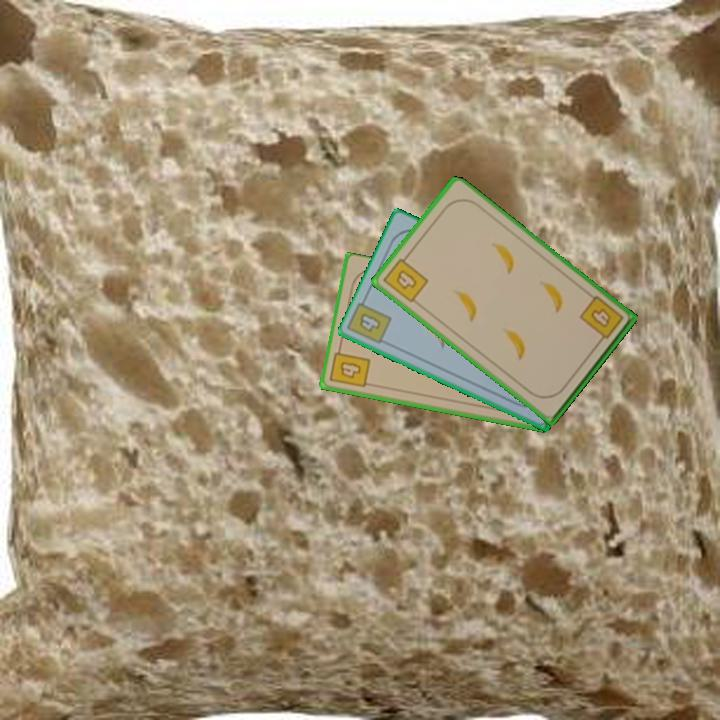4b: (379, 251, 431, 306), (576, 292, 626, 348), (326, 343, 373, 391), (355, 310, 384, 335)
